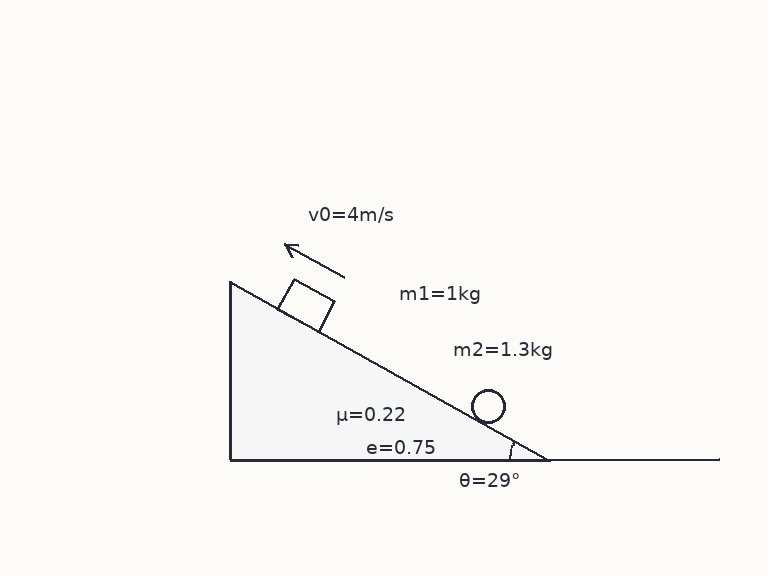ball: (469, 387, 507, 425)
block: (275, 277, 336, 333)
ramp: (228, 281, 552, 462)
